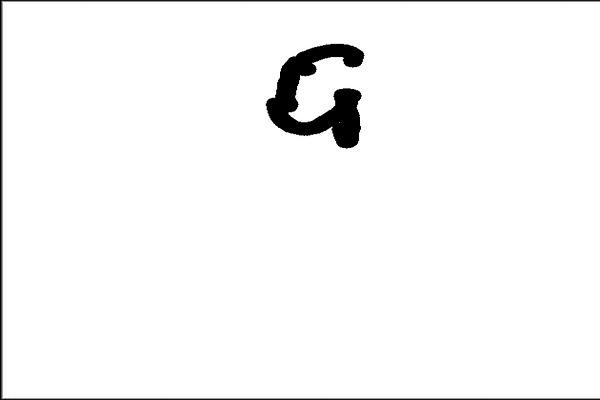G: (261, 37, 373, 154)
